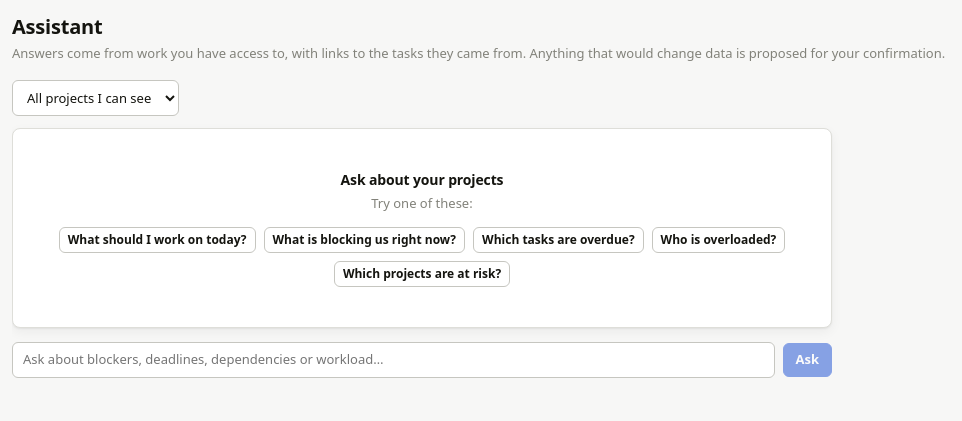
Test case: Assistant › separates what the data shows from what it recommends
Type "What is blocking us?" into the field named "Question" at (393, 360), box left=12, top=342, right=774, bottom=378
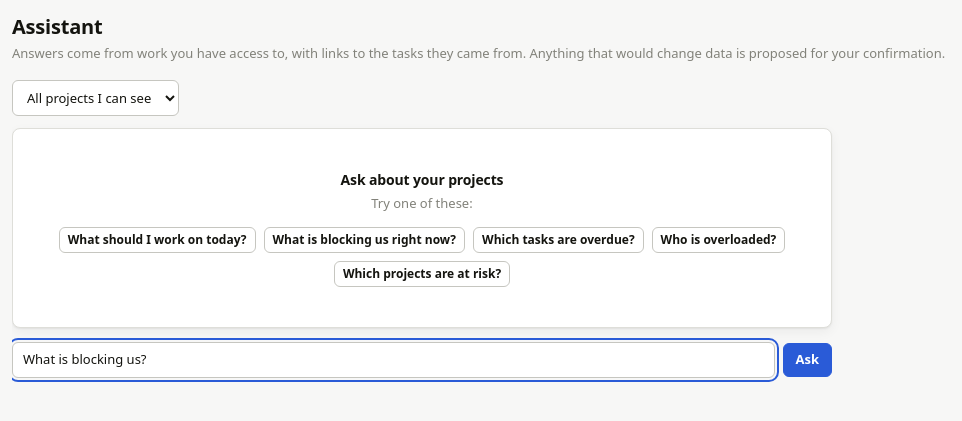
Click the button "Ask" at (807, 360), box left=782, top=343, right=832, bottom=376
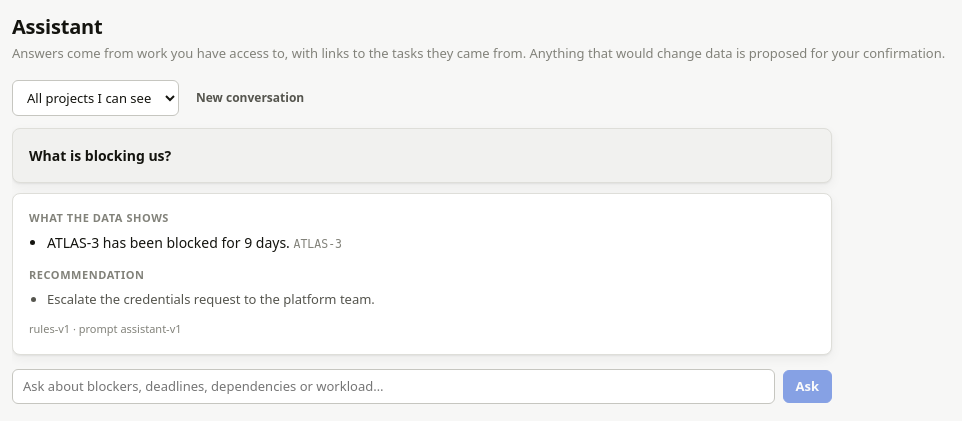
Expected: the text "What the data shows" is shown, left=29, top=210, right=169, bottom=224
Expected: the text "Recommendation" is shown, left=29, top=267, right=145, bottom=282
Expected: the list item "ATLAS-3 has been blocked for 9 days. ATLAS-3" is shown, left=47, top=233, right=342, bottom=252
